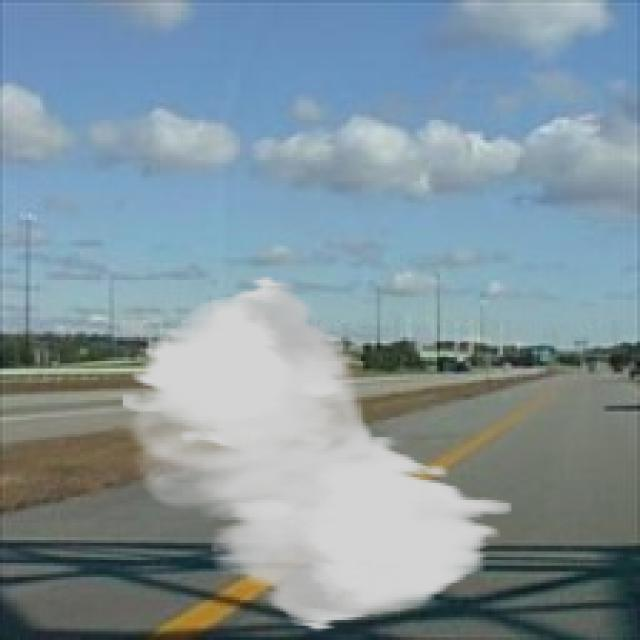Smoke: (120, 274, 512, 632)
